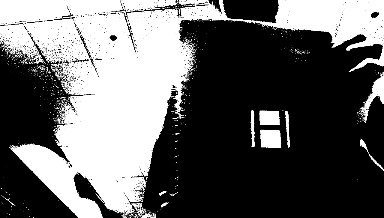H: (249, 109, 289, 147)
